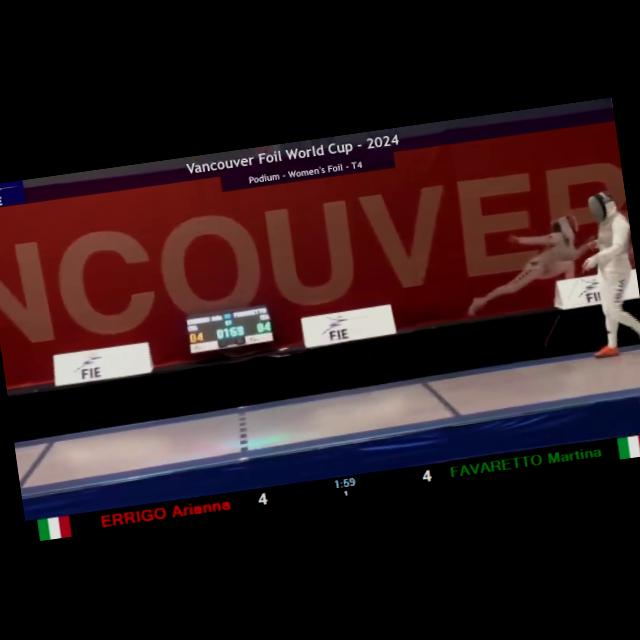blade: (534, 262, 600, 348)
